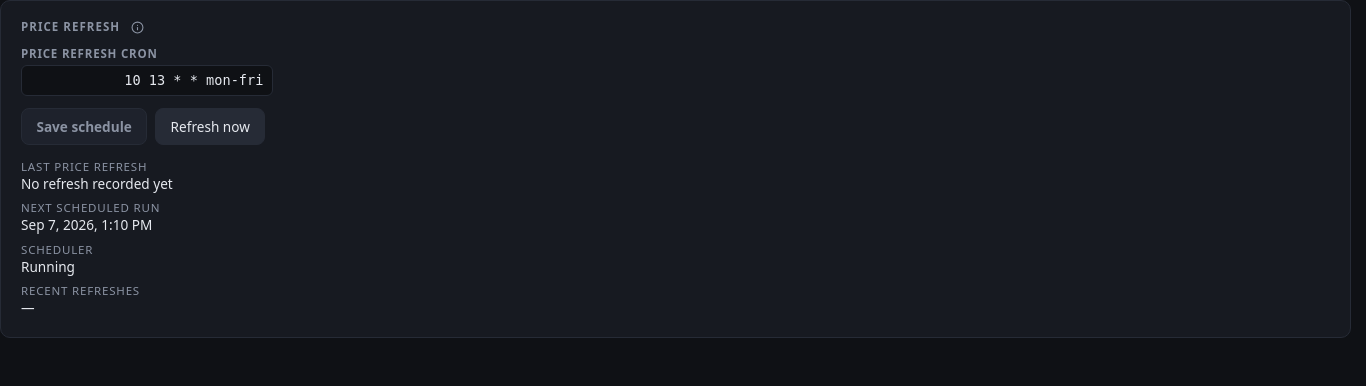
Test case: PriceRefreshCard › holds Refresh now disabled until the fresh facts are on screen
The image size is (1366, 386).
Check: the text "Next scheduled run" is shown, box [21,200,160,215]
Click the button "Refresh now" at (210, 126), box [155,108,265,145]
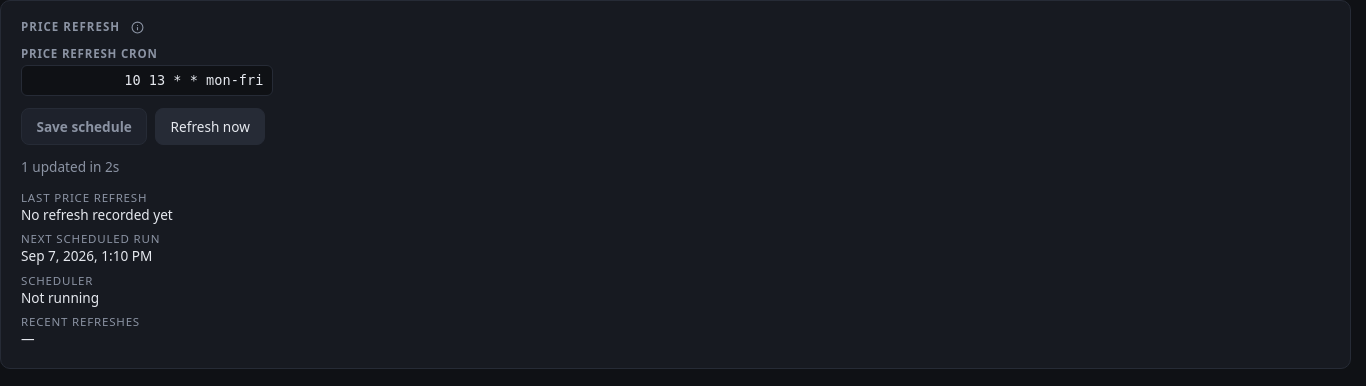
Check: the text "Not running" is shown, box [21,288,99,306]
